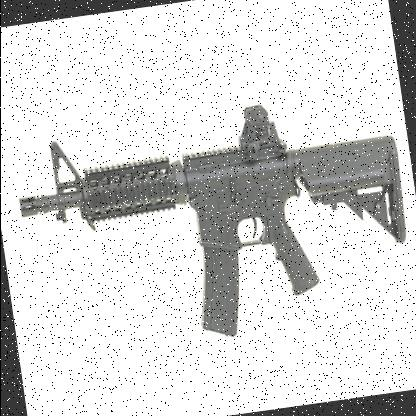rifle: (14, 93, 416, 372)
